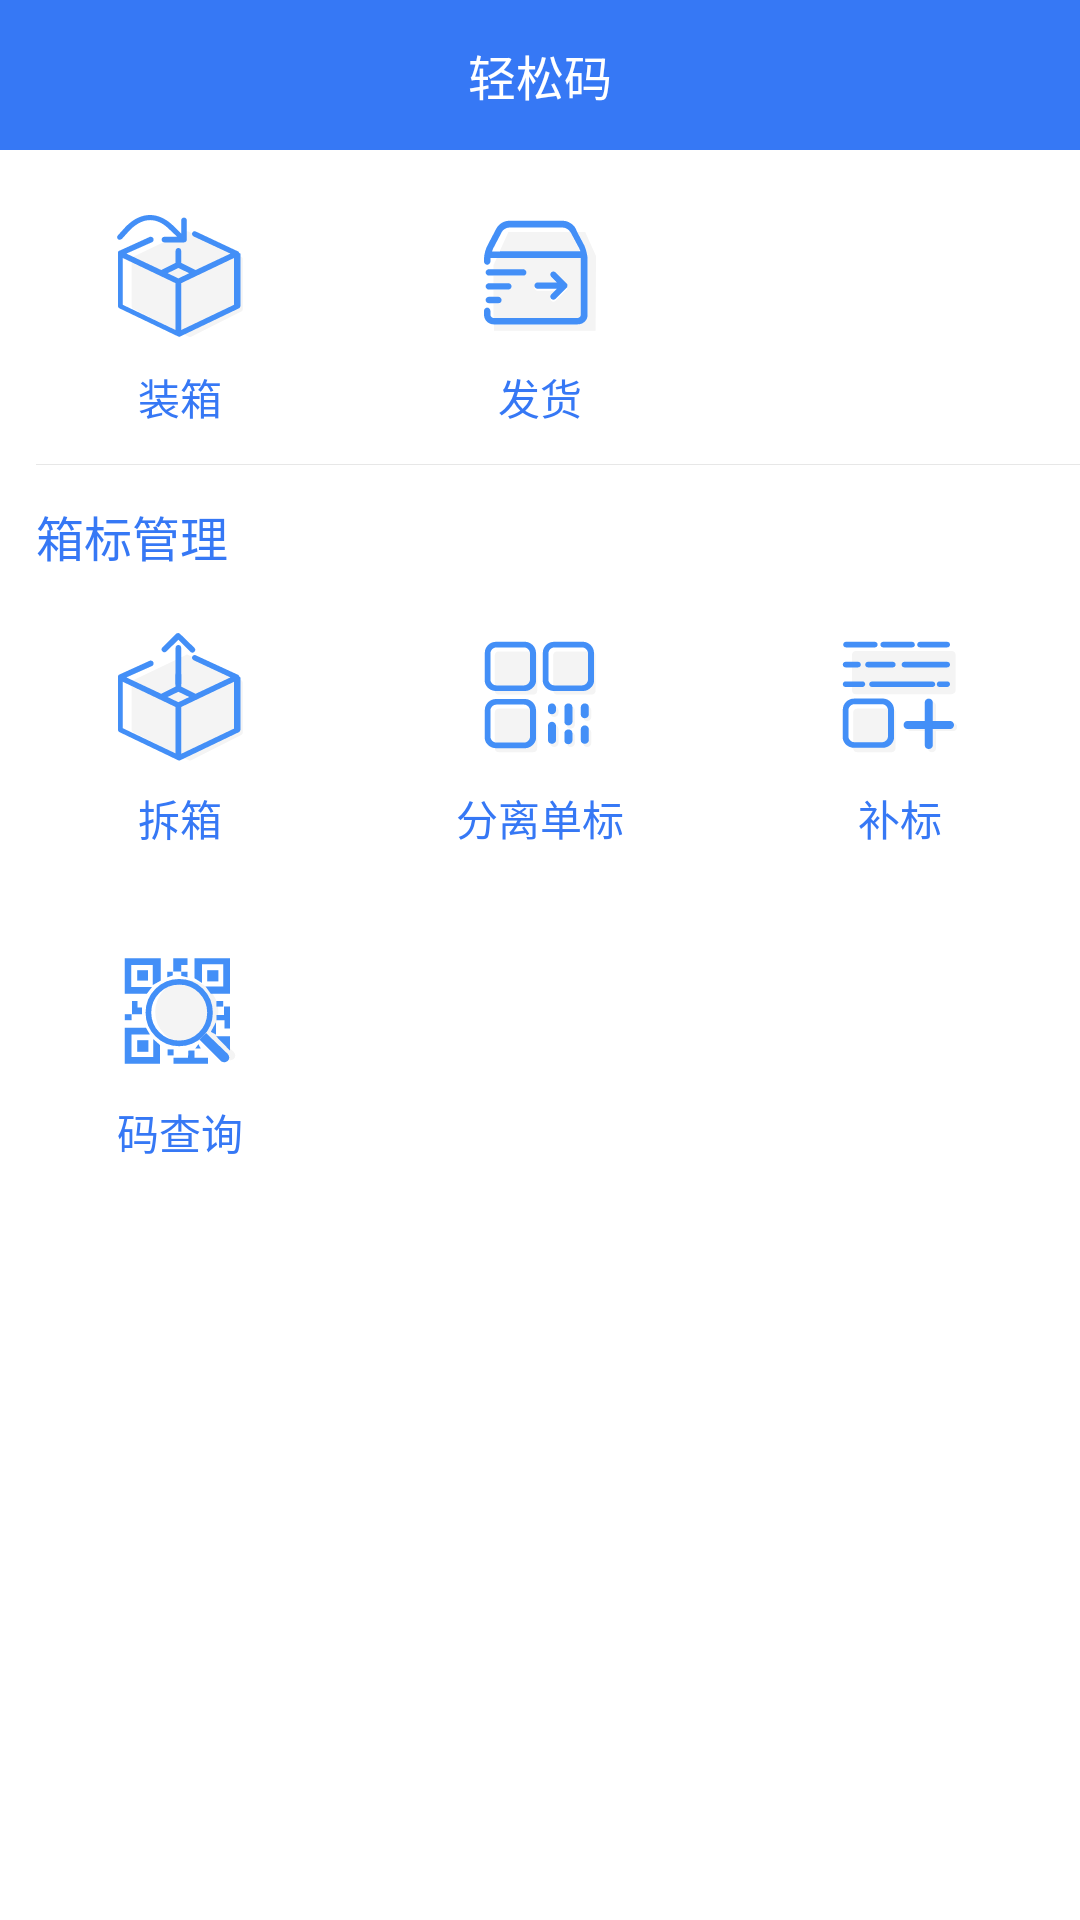

Icon click points for this 1080 x 1920 phone screenshot, format (x=x, y=y):
deliver: (x=540, y=275)
query: (x=177, y=1011)
separate: (x=539, y=695)
supply: (x=898, y=695)
